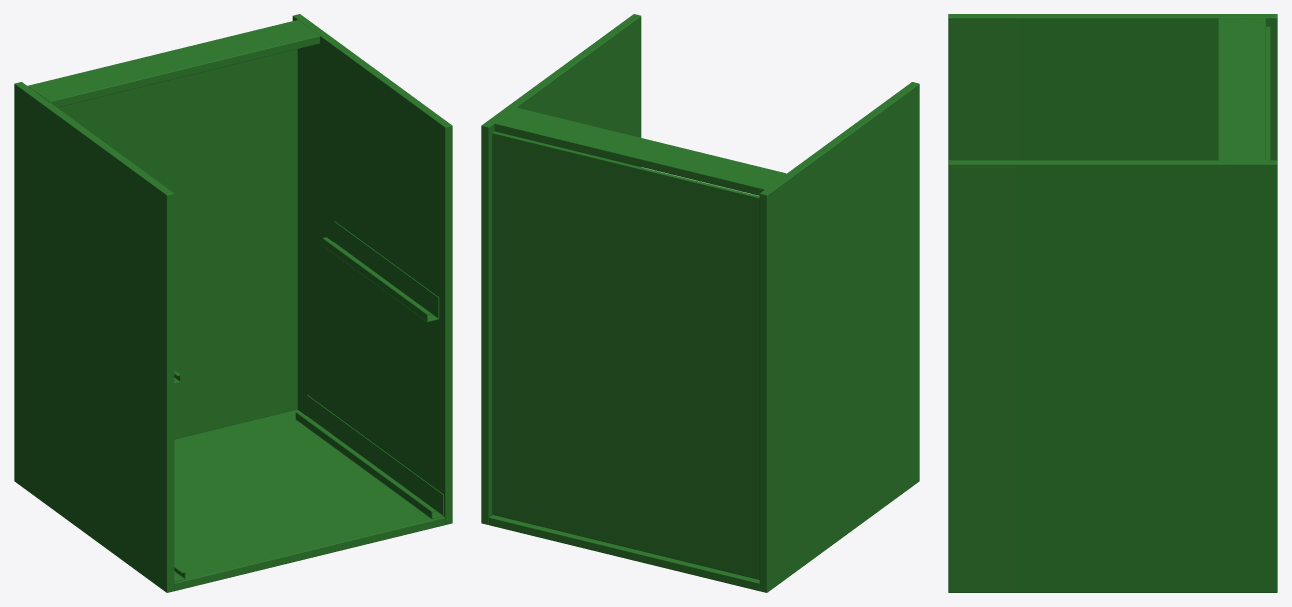
File: SM_Kitchen_08_Sink_Base.fbx
The picture shows the model from 3 angles, left to right: view 1: azimuth 30°, elevation 25°; view 2: azimuth 150°, elevation 25°; view 3: azimuth 270°, elevation 25°; orthographic projection. The views are drawn at different scales.
Visible parts, largest first — view 1: SM_Kitchen_08_Sink_Base; view 2: SM_Kitchen_08_Sink_Base; view 3: SM_Kitchen_08_Sink_Base.
Boxes of the visible parts, x1,y1,x2,y2 form: SM_Kitchen_08_Sink_Base: (14, 14, 452, 592); SM_Kitchen_08_Sink_Base: (481, 14, 919, 592); SM_Kitchen_08_Sink_Base: (948, 14, 1277, 592).
Size of the model in its own units: 59.99 by 79.8 by 55.49.
